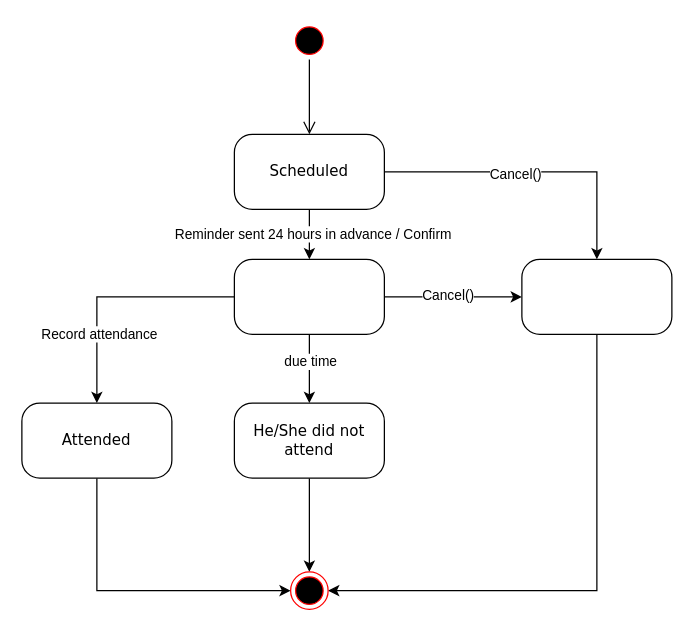
Image size: 694x631. Some labels were removed from this diagram. Each missing label, with the centre of its shape:
"Cancelled" goes at (596,296).
"Confirmed" goes at (308,296).
